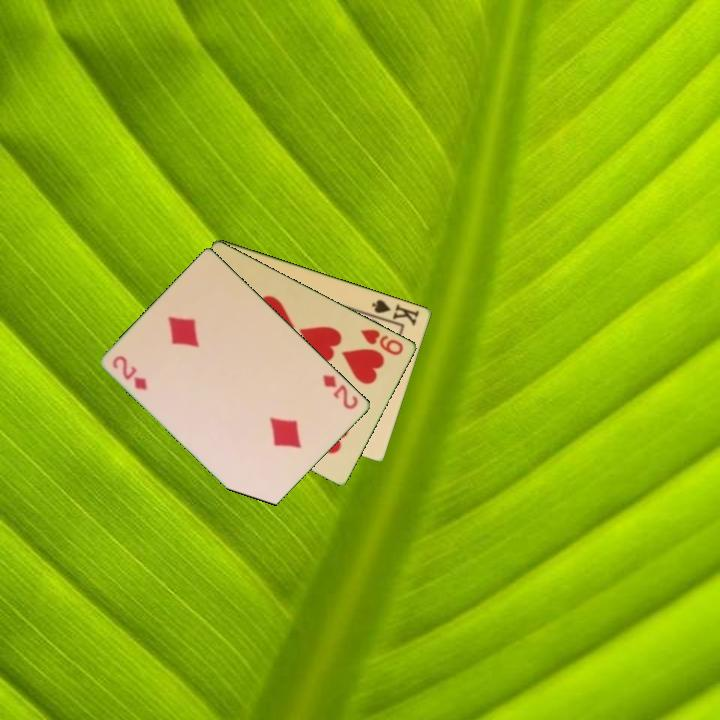2d: (109, 352, 151, 393), (320, 371, 361, 412)
9h: (357, 325, 407, 358)
Ks: (366, 295, 422, 328)
